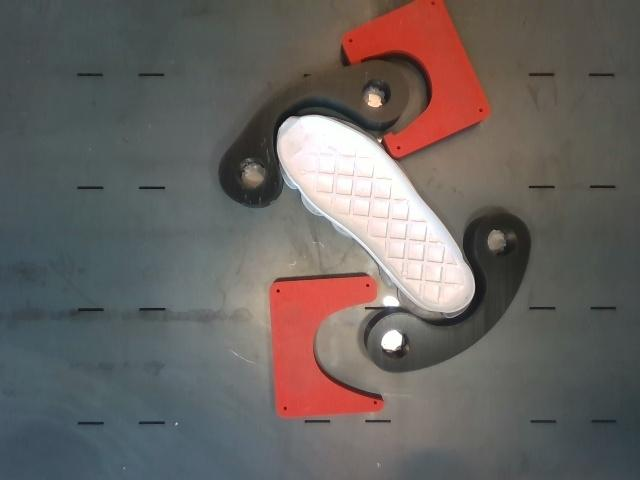shoes: (277, 117, 474, 312)
